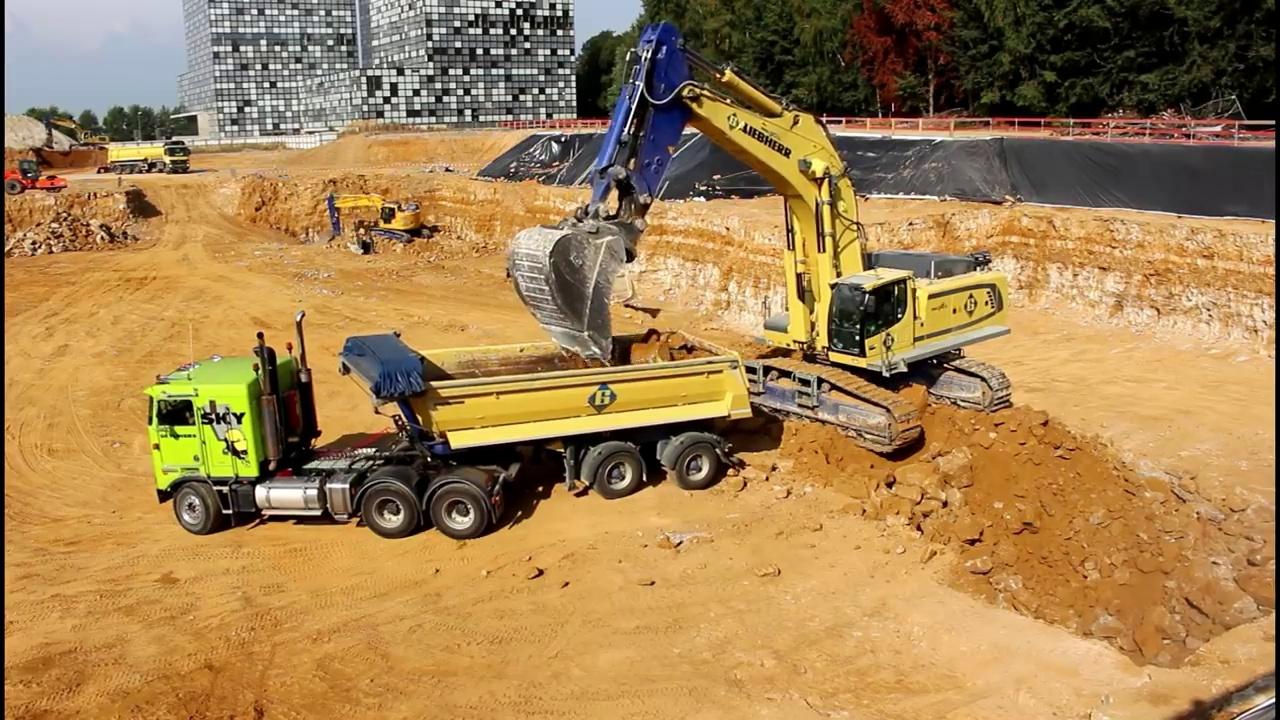compactor: (4, 158, 70, 196)
excavator: (504, 13, 1021, 462), (315, 185, 442, 262), (42, 113, 112, 159)
truck: (137, 306, 760, 544), (104, 133, 194, 178)
